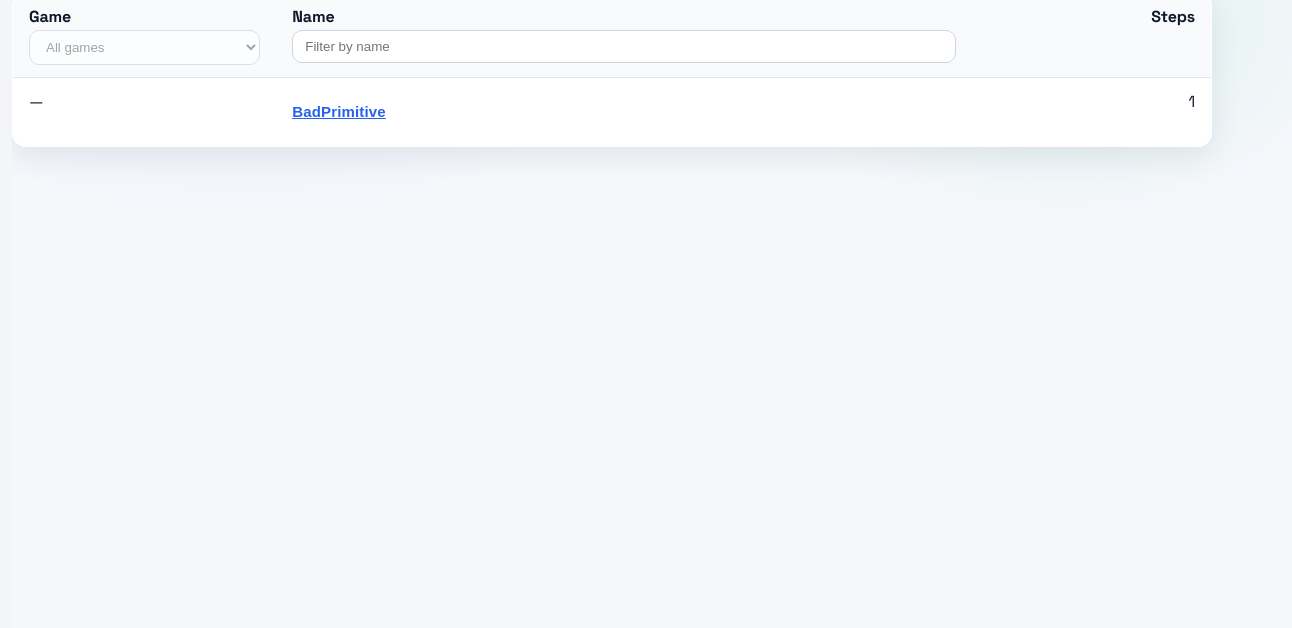
Scenario: CommandsPage detection persistence › shows validation error for primitive tap step without detection image
Expected: the text "BadPrimitive" is shown, [292,104,386,120]
What coordinates should you click on to do the following:
click the button "BadPrimitive"
I would click on:
 (339, 112)
Its box is [292,90,386,134].
(page scrolled)
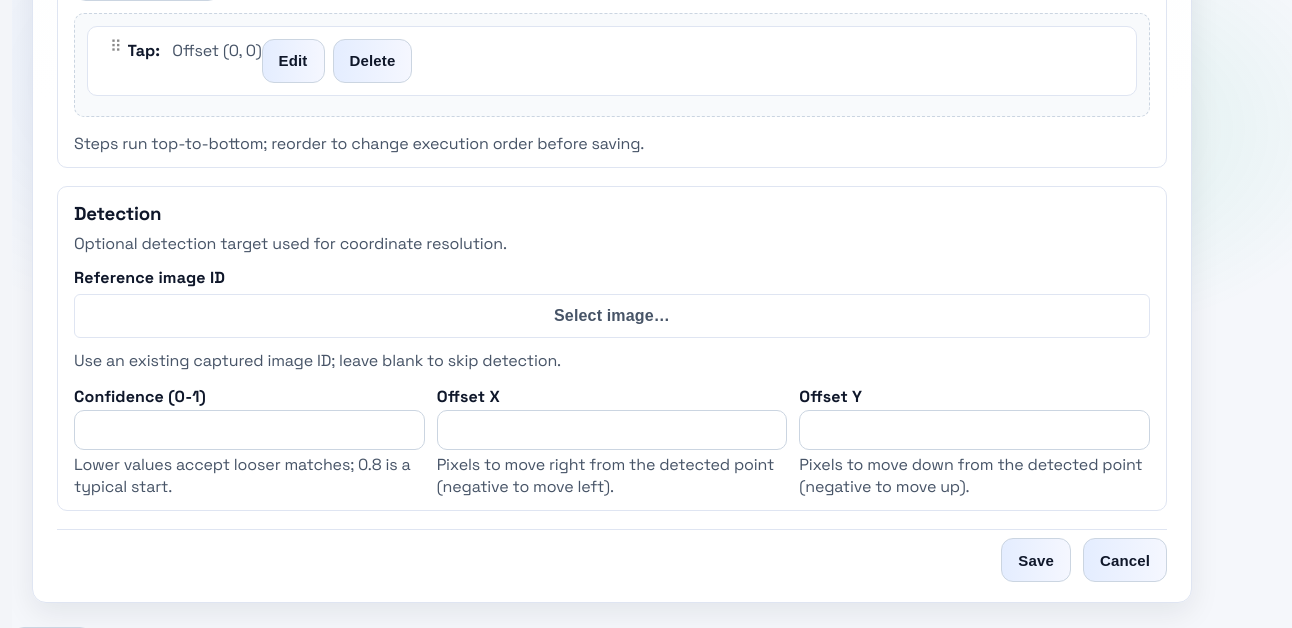
What coordinates should you click on to do the following:
click the button "Save"
I would click on:
 (1036, 560)
Its box is [1001,538,1071,582].
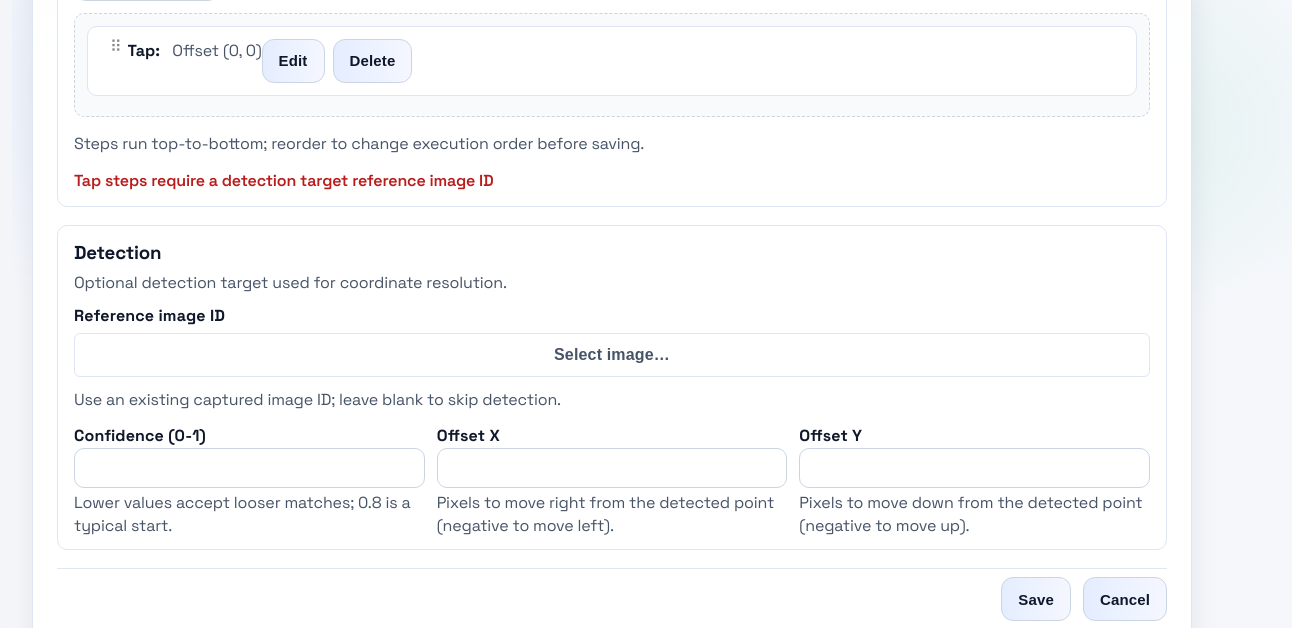
Expected: the text "Tap steps require a detection target reference image ID" is shown, [74,170,494,191]
